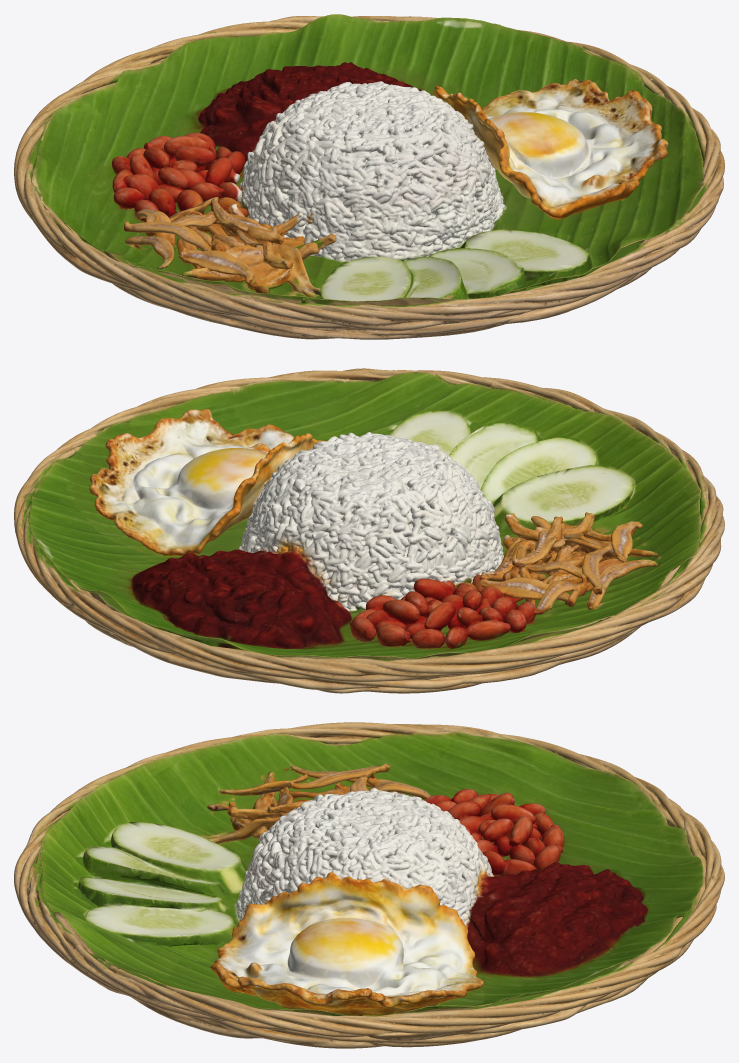
File: nasi-lemak.glb
The picture shows the model from 3 angles, top to bottom: view 1: azimuth 30°, elevation 25°; view 2: azimuth 150°, elevation 25°; view 3: azimuth 270°, elevation 25°; orthographic projection.
Bounding box in the file's own units: 1.9 × 0.3352 × 1.9.
1 material, 1 textured.
